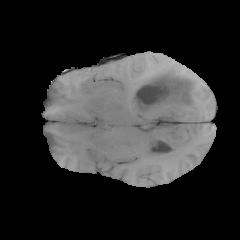glioma: (132, 66, 198, 112)
